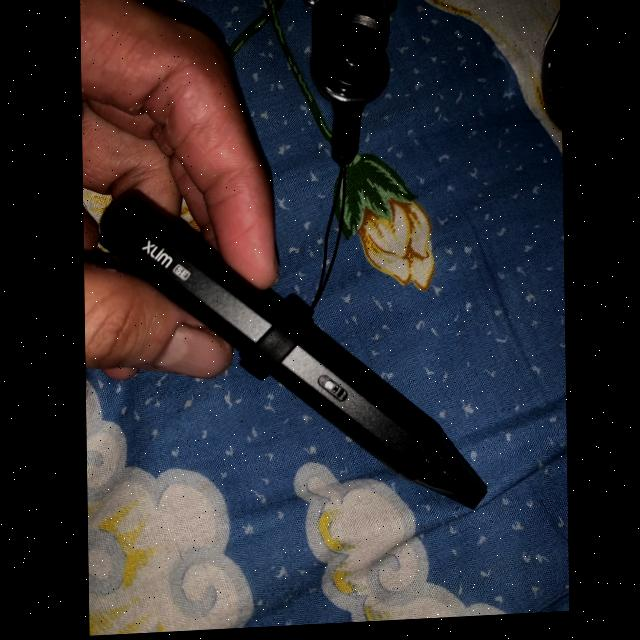vape: (96, 185, 486, 531)
